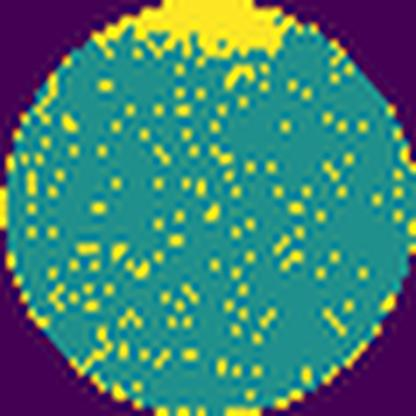Edge-Loc: (90, 0, 295, 57)
